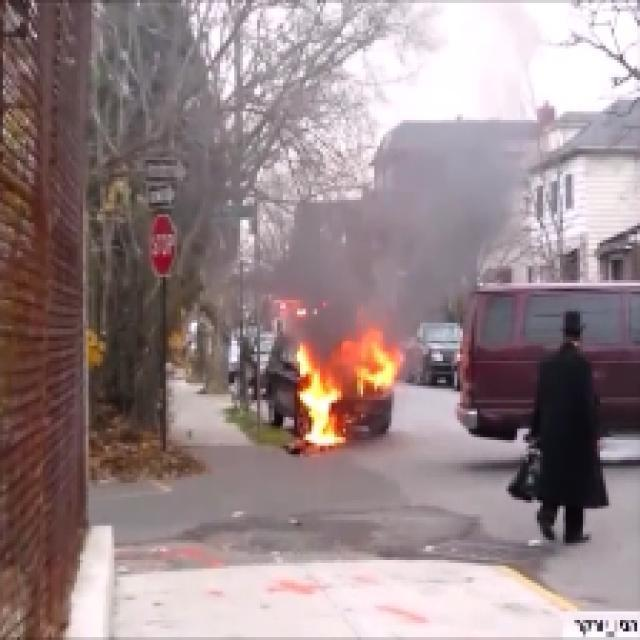Fire: (293, 348, 340, 461), (358, 342, 396, 392)
Smoke: (271, 222, 446, 332), (390, 162, 500, 215)
